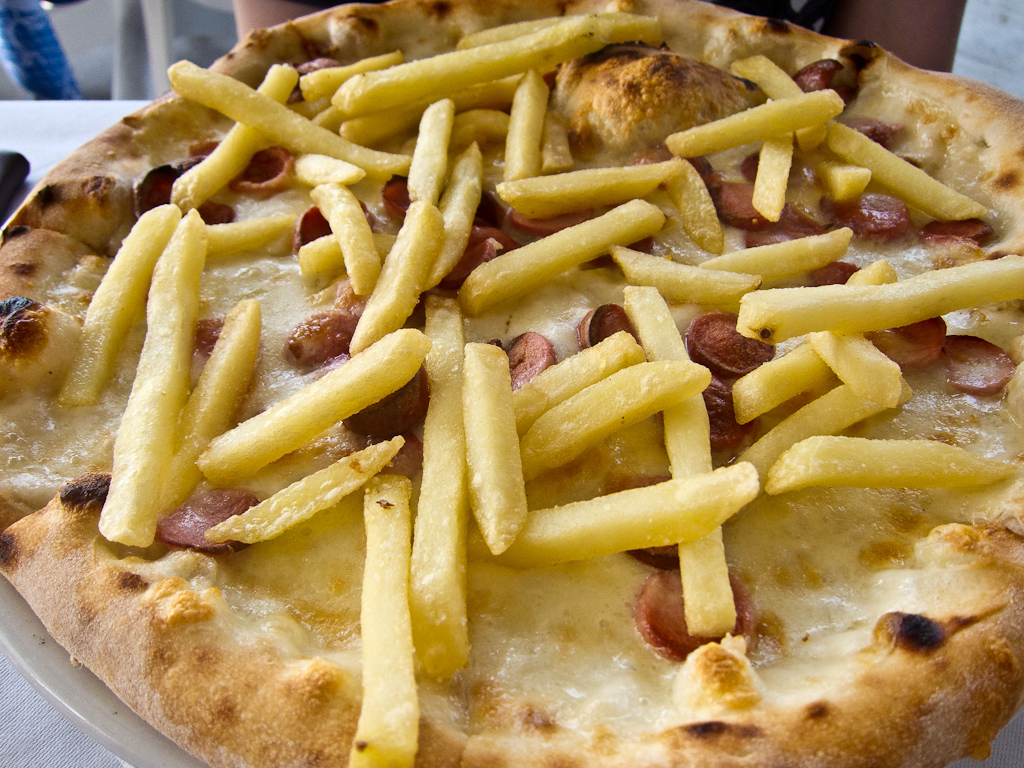French fries: (58, 29, 1004, 730)
